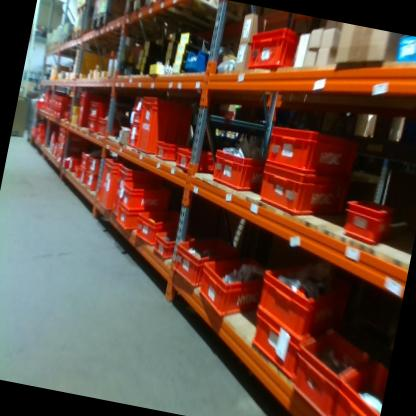pallet: (146, 0, 231, 24), (91, 10, 121, 38), (120, 0, 148, 26), (73, 0, 94, 19), (70, 25, 89, 44)
small_load_carrier: (249, 243, 355, 350), (282, 320, 377, 416), (261, 113, 363, 184), (254, 159, 352, 226), (193, 246, 270, 323), (168, 224, 243, 296), (328, 341, 392, 416), (133, 94, 192, 161), (245, 312, 304, 377), (244, 15, 305, 77), (337, 197, 395, 249), (133, 196, 187, 251), (116, 170, 176, 215), (106, 161, 147, 226), (210, 148, 262, 193), (72, 88, 113, 134), (174, 140, 217, 176), (98, 155, 125, 210), (150, 229, 184, 265), (111, 203, 143, 234), (151, 138, 179, 167), (87, 149, 109, 176), (93, 116, 113, 141), (64, 151, 81, 179), (87, 97, 106, 120), (131, 92, 148, 113), (83, 113, 98, 136), (83, 173, 99, 192), (78, 150, 92, 170), (129, 111, 144, 127), (124, 134, 137, 151), (75, 168, 87, 186), (127, 125, 139, 136)
